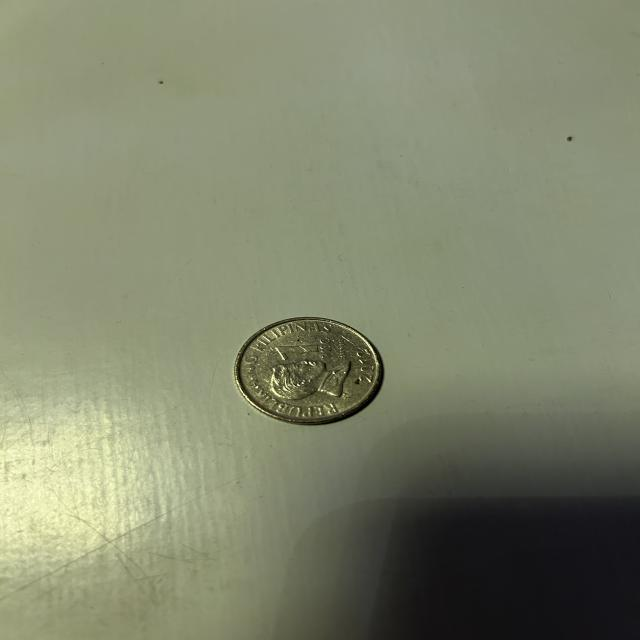1_Old_Front: (268, 334, 334, 366)
